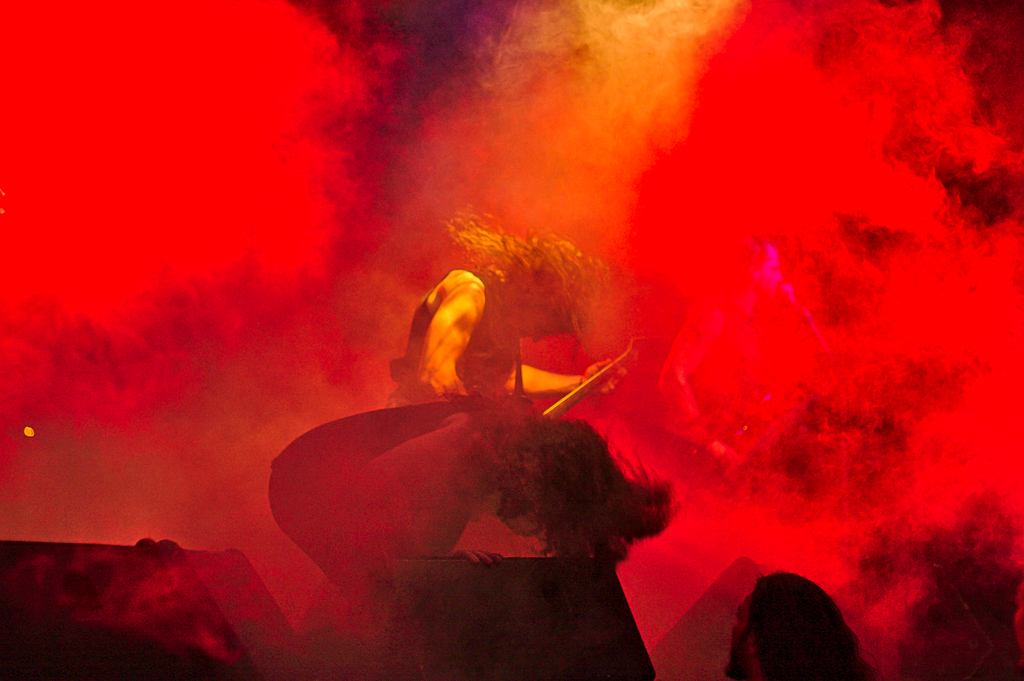Person: (268, 202, 878, 681)
